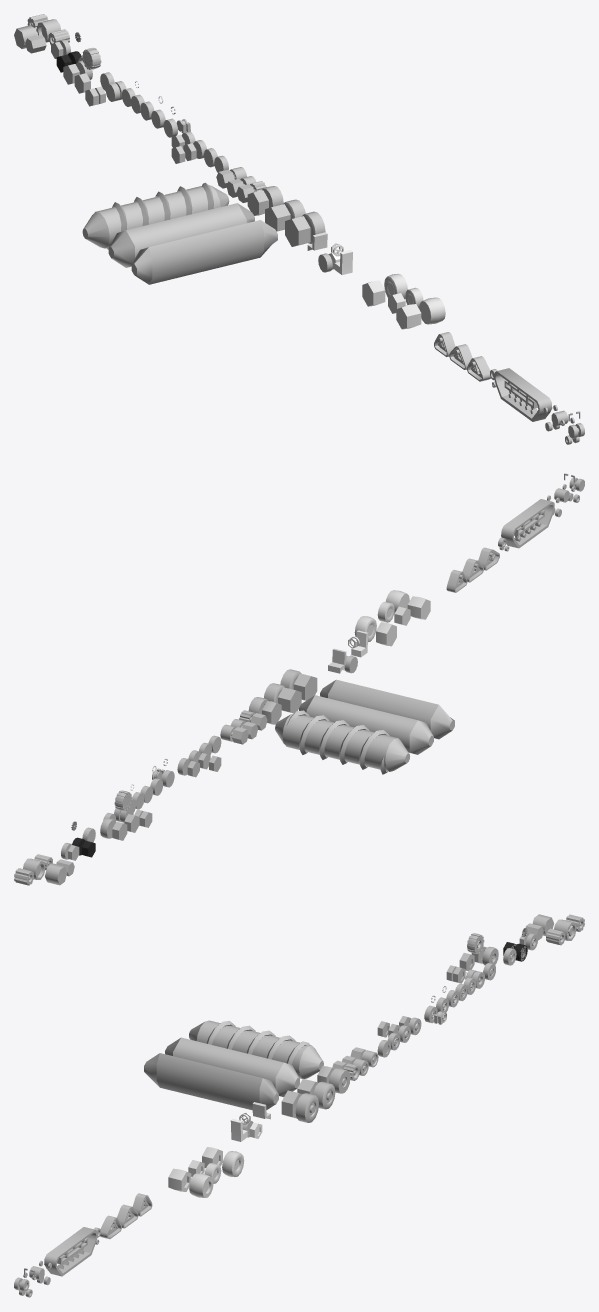
The model's file is SeatsAndWheels.fbx.
3 views of the same model, one above another, from view 1: azimuth 30°, elevation 25°; view 2: azimuth 150°, elevation 25°; view 3: azimuth 330°, elevation 25° (orthographic). The views are drawn at different scales.
Parts seen in each view (by area): view 1: LedorubScrew_Coll, LedorubScrew_0, LedorubScrew_1, Track, WheelMAZ_1, WheelSwamp_0; view 2: LedorubScrew_0, LedorubScrew_1, LedorubScrew_Coll, Track; view 3: LedorubScrew_Coll, LedorubScrew_0, LedorubScrew_1, Track, WheelMAZ_0, WheelSwamp_0.
Boxes of the visible parts, x1,y1,x2,y2 form: LedorubScrew_Coll: (131,220,277,284); LedorubScrew_0: (82,182,229,249); LedorubScrew_1: (108,203,254,267); Track: (494,368,552,421); WheelMAZ_1: (285,216,310,246); WheelSwamp_0: (419,297,445,324); LedorubScrew_0: (275,710,409,774); LedorubScrew_1: (299,695,433,754); LedorubScrew_Coll: (320,679,454,739); Track: (501,499,554,548); LedorubScrew_Coll: (144,1053,278,1110); LedorubScrew_0: (189,1020,323,1078); LedorubScrew_1: (165,1037,299,1097); Track: (44,1227,97,1276); WheelMAZ_0: (295,1093,318,1122); WheelSwamp_0: (189,1173,213,1197).
Size of what is drawn, in the model's own units: 1277 by 366 by 6643.
